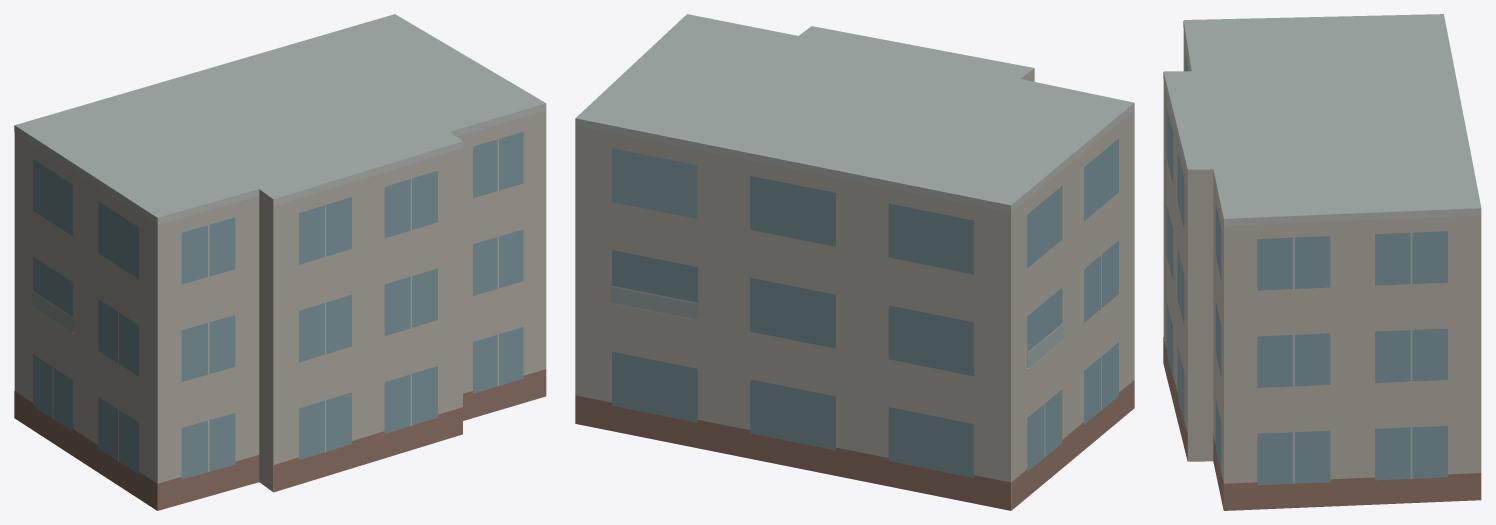
Rendered from survey-upis-32922694.glb.
3 views of the same model, side by side, from view 1: azimuth 30°, elevation 25°; view 2: azimuth 150°, elevation 25°; view 3: azimuth 270°, elevation 25° (orthographic). The views are drawn at different scales.
Parts seen in each view (by area): view 1: survey-upis-32922694.tmp; view 2: survey-upis-32922694.tmp; view 3: survey-upis-32922694.tmp.
Boxes of the visible parts, box(x1,y1,x2,y2) form: survey-upis-32922694.tmp: box(14, 14, 546, 510); survey-upis-32922694.tmp: box(575, 14, 1134, 510); survey-upis-32922694.tmp: box(1163, 14, 1481, 510).
Size of the model in its own units: 15.36 by 10.2 by 10.08.
